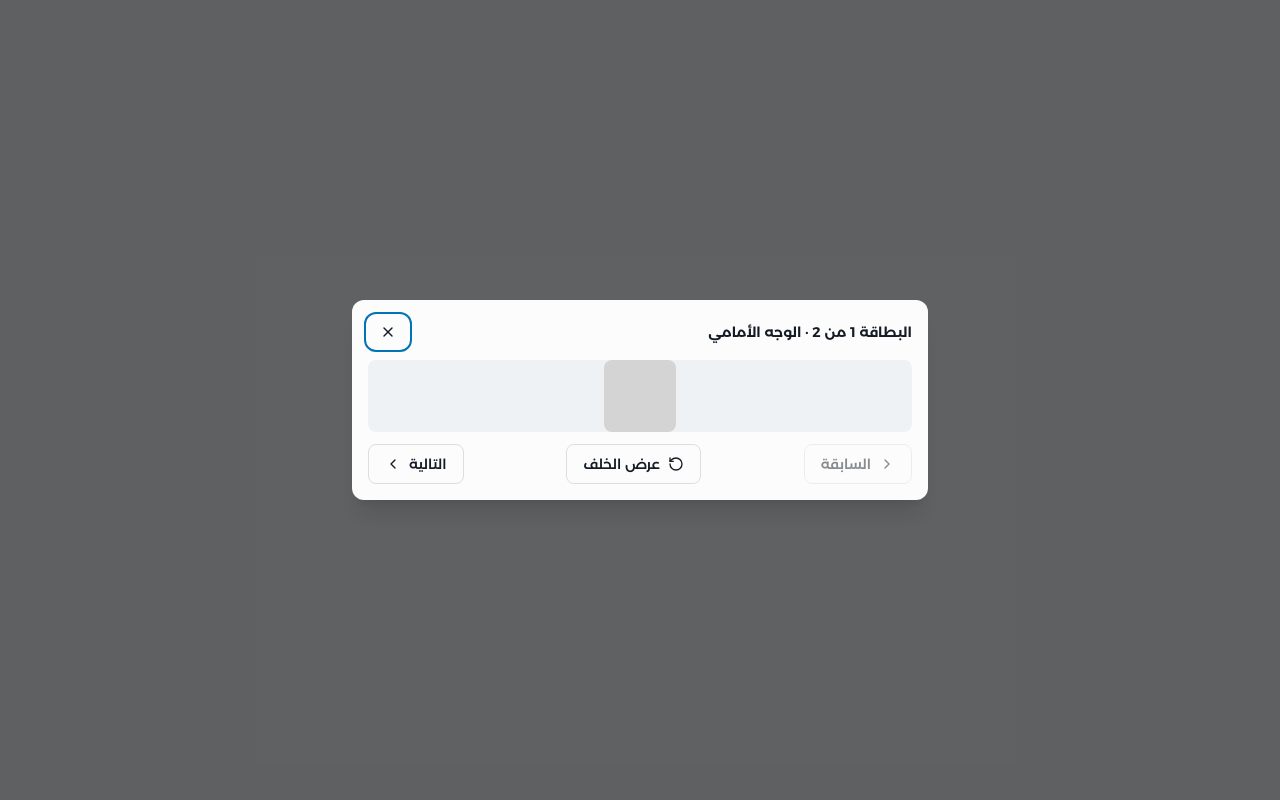
card preview › shows the full-size front, flips to the back, and moves through the deck
Expected: the text "البطاقة 1 من 2 · الوجه الأمامي" is shown, [708,322,912,342]
Click the button "عرض الخلف".
click(634, 464)  # box [566,444,701,484]
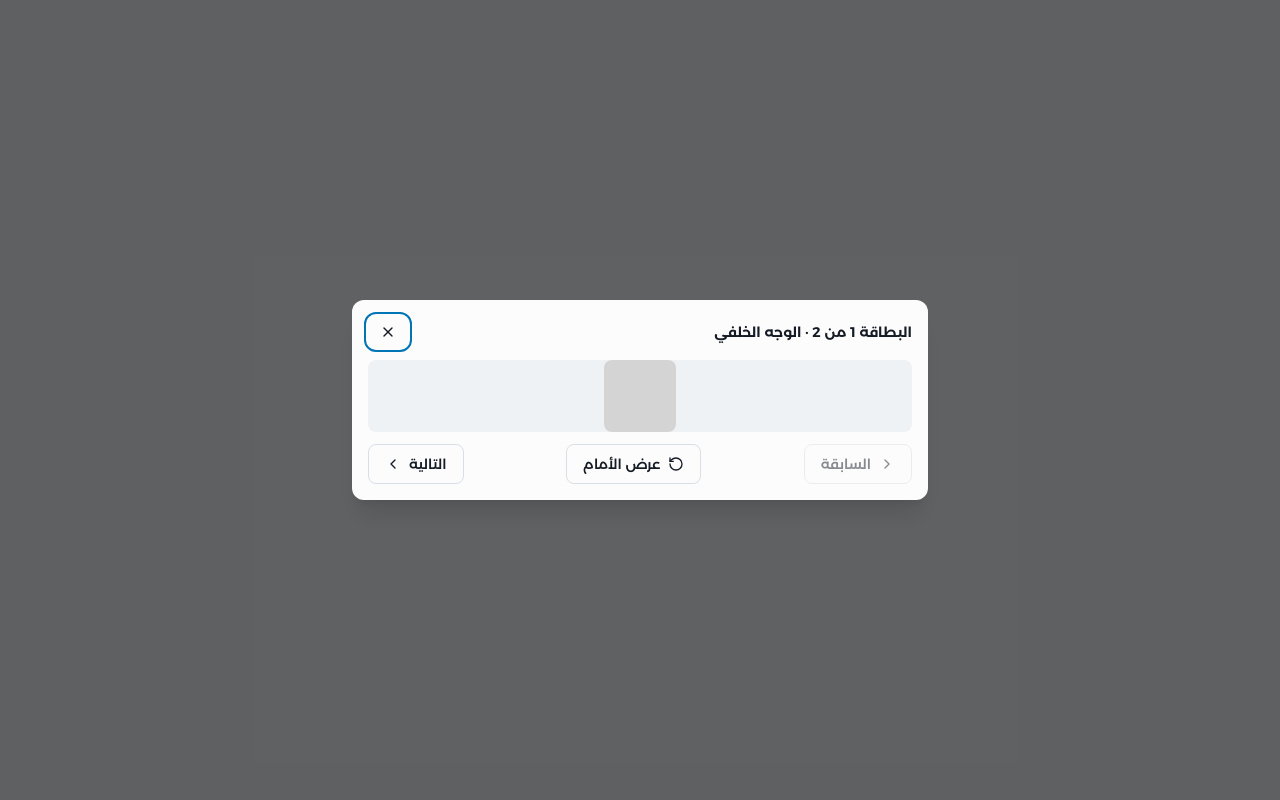
Click the button "التالية".
click(416, 464)  # box [368,444,464,484]
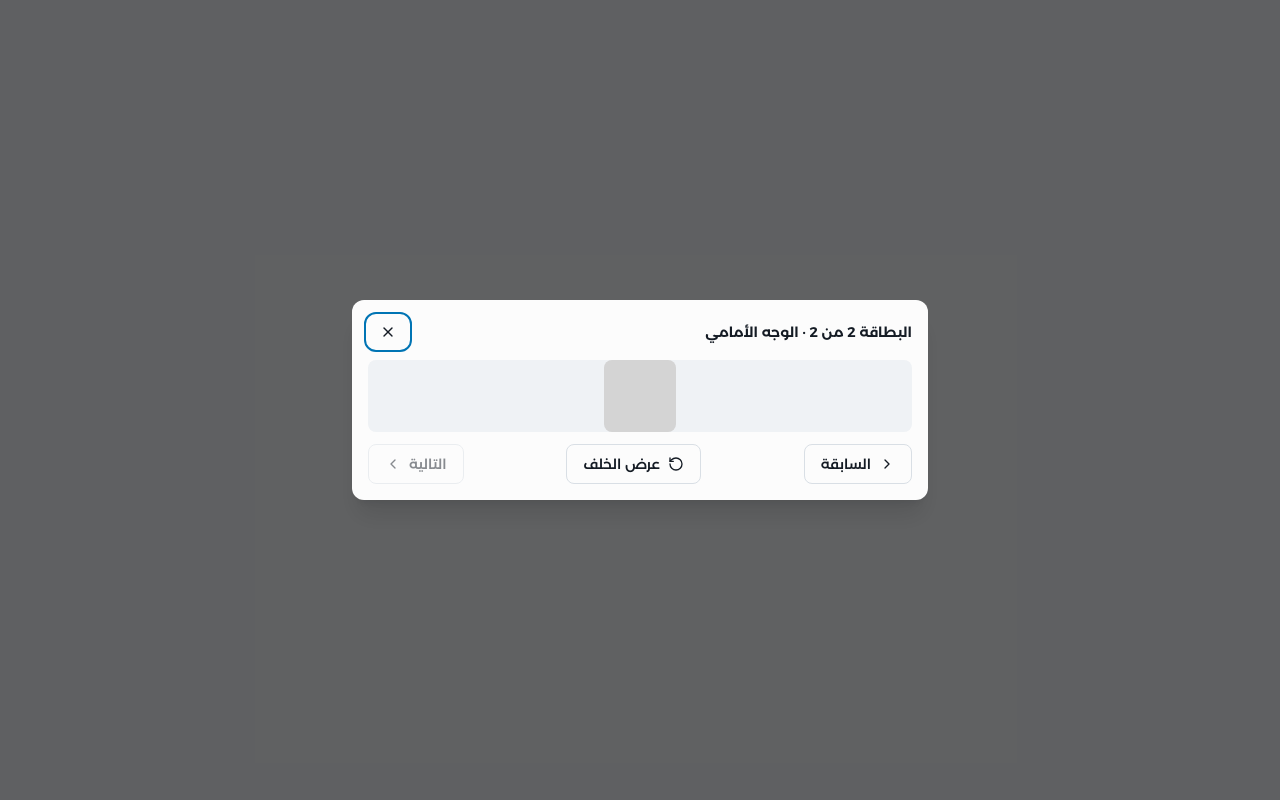
Result: the text "البطاقة 2 من 2 · الوجه الأمامي" is shown at [705,322,912,342]
Result: the button "التالية" is disabled at [368,444,464,484]
